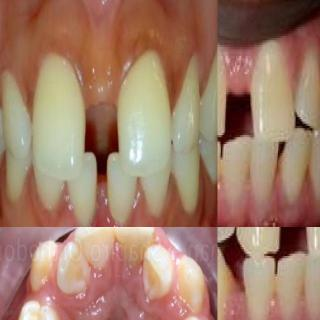calculus: (261, 270, 287, 302), (218, 154, 232, 186)
maligned: (135, 238, 183, 300), (224, 128, 257, 212), (281, 125, 317, 195), (174, 254, 214, 317), (45, 239, 93, 291), (279, 244, 311, 320), (246, 138, 279, 210), (25, 234, 64, 294), (252, 132, 280, 204), (297, 53, 320, 124), (300, 255, 320, 320), (218, 238, 232, 320), (7, 300, 63, 320), (306, 249, 320, 320), (311, 122, 320, 218)
